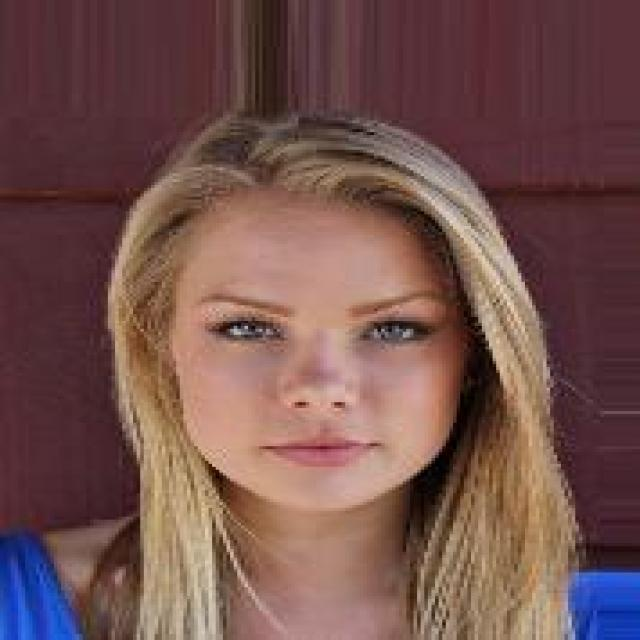bareface: (136, 130, 490, 513)
